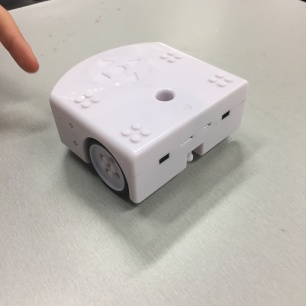thymio: (41, 40, 249, 205)
